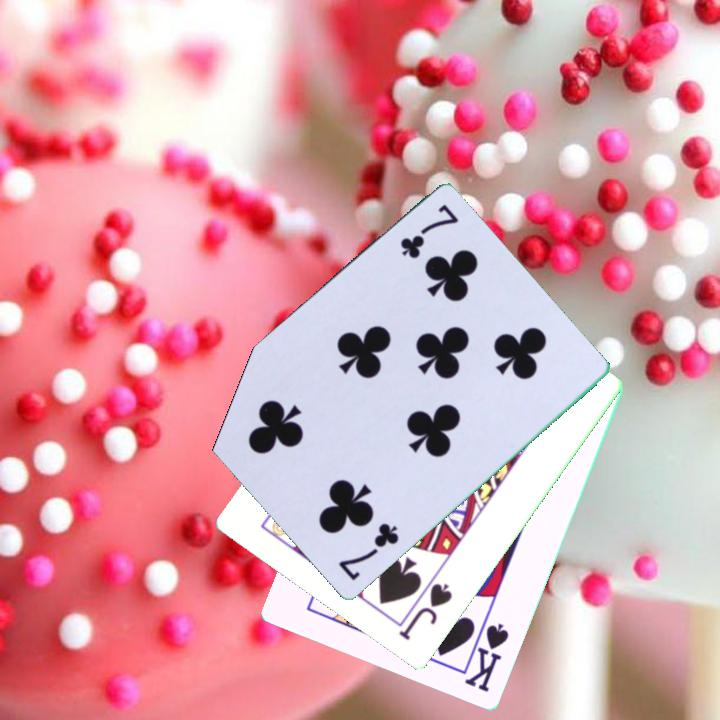7c: (334, 519, 402, 585), (396, 201, 462, 263)
Js: (395, 580, 456, 644)
Ks: (461, 620, 512, 696)
